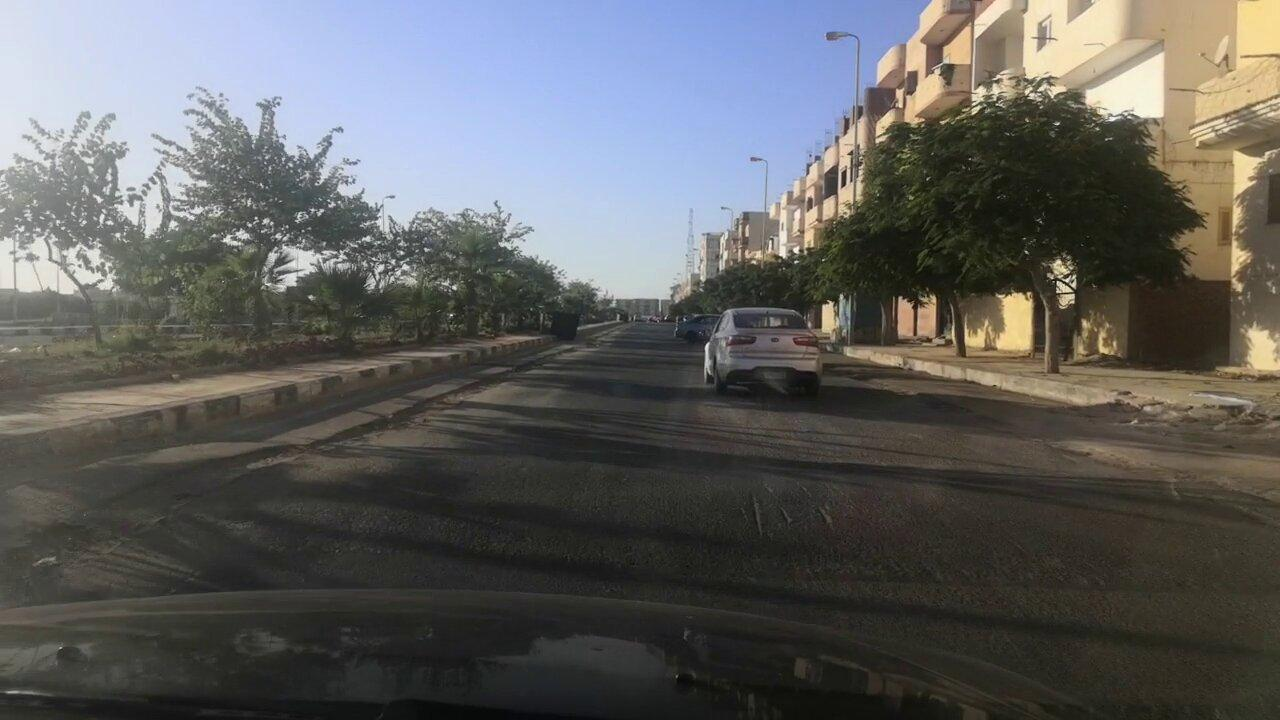Pothole: (8, 380, 463, 612)
